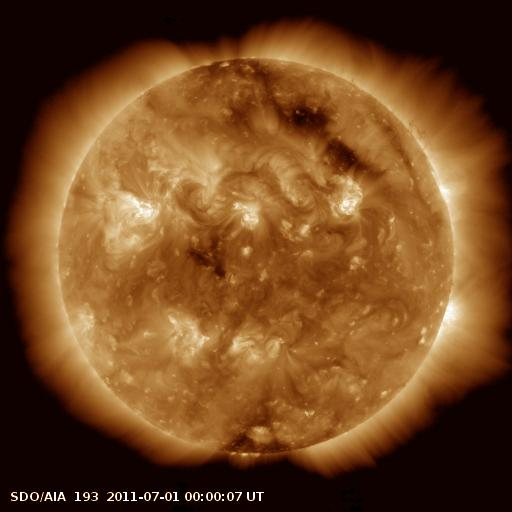coronal_hole: (276, 87, 371, 175), (217, 411, 297, 459)
